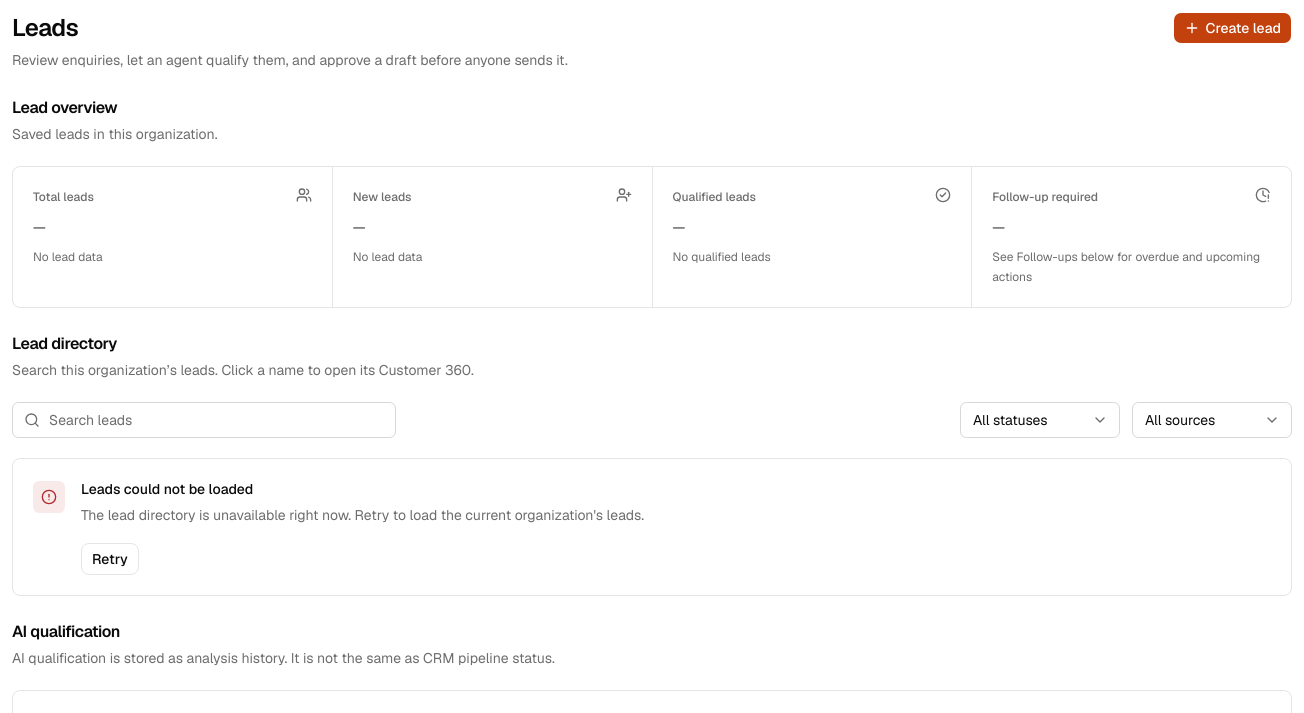
Scenario: Leads page › shows an API error and retries
Expected: the heading "Leads could not be loaded" is shown, [81, 480, 253, 498]
Click the button "Retry" at coordinates (110, 559), box [81, 543, 139, 575]
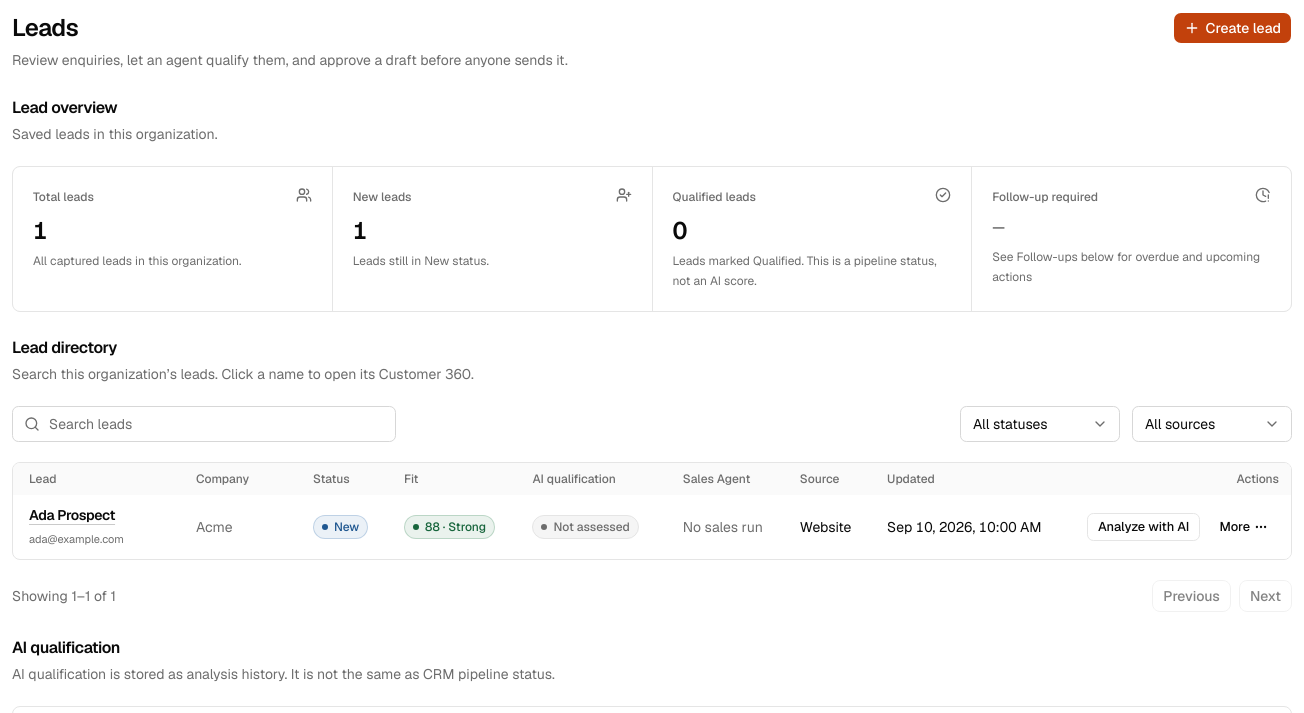
Expected: the link "Ada Prospect" is shown, [29, 506, 115, 524]
